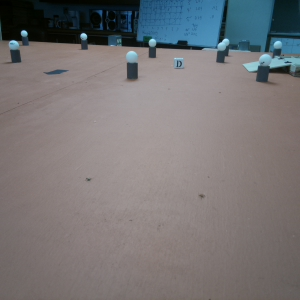blockD: (173, 55, 183, 70)
obstacle: (126, 52, 138, 83), (7, 41, 20, 64), (259, 54, 268, 84), (217, 43, 227, 62), (148, 38, 157, 58), (80, 32, 89, 52), (273, 41, 281, 59), (20, 29, 28, 46)
start: (43, 67, 68, 78)
